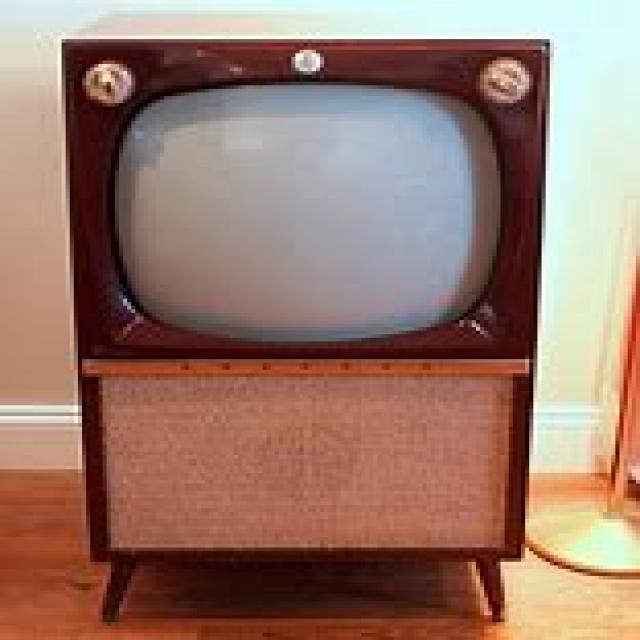tv: (57, 32, 550, 359)
